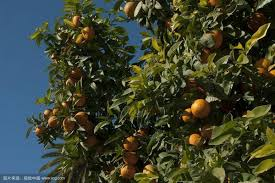orange: (190, 98, 210, 117), (123, 134, 139, 151), (80, 26, 93, 41)
